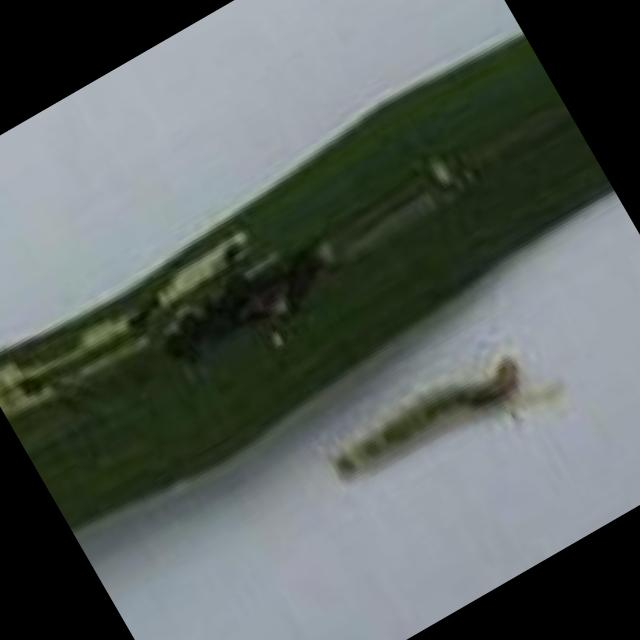leaf-folder: (304, 312, 558, 509)
